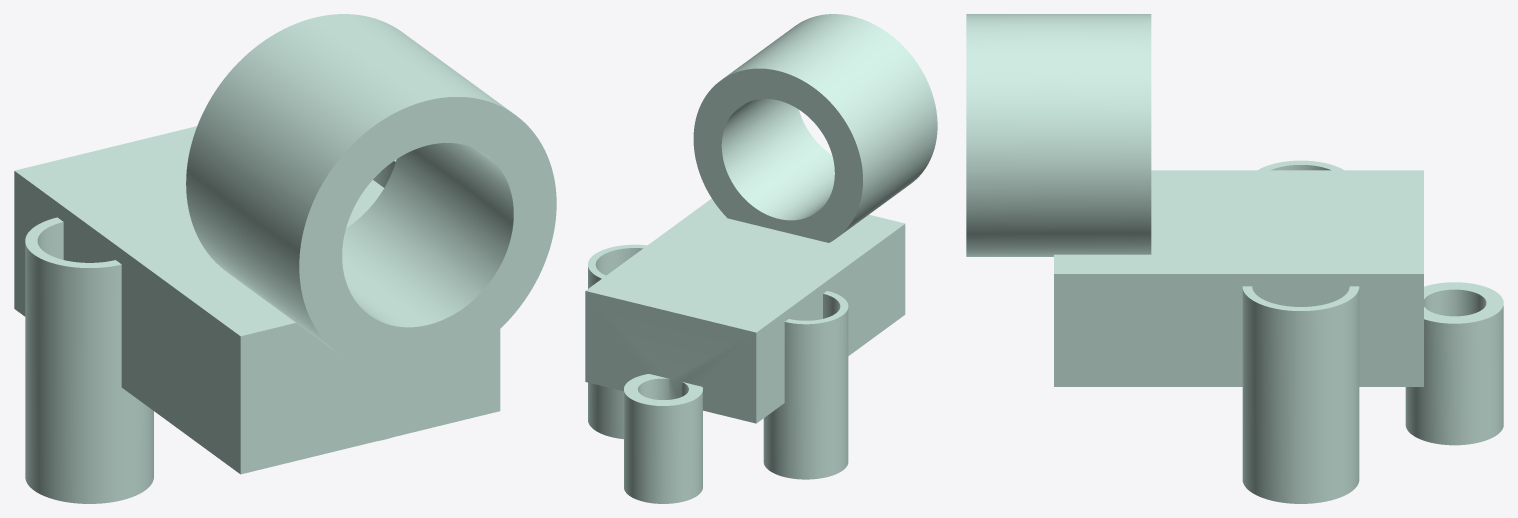
The picture shows the model from 3 angles, left to right: view 1: azimuth 30°, elevation 25°; view 2: azimuth 150°, elevation 25°; view 3: azimuth 270°, elevation 25°; orthographic projection. The views are drawn at different scales.
Visible parts, largest first — view 1: Renderer Node; view 2: Renderer Node; view 3: Renderer Node.
Part boxes in pixels (bbox=[...]): Renderer Node: bbox=[14, 14, 556, 503]; Renderer Node: bbox=[585, 14, 937, 503]; Renderer Node: bbox=[966, 14, 1503, 503].
Size of the model in its own units: 0.6016 by 0.7521 by 0.908.
